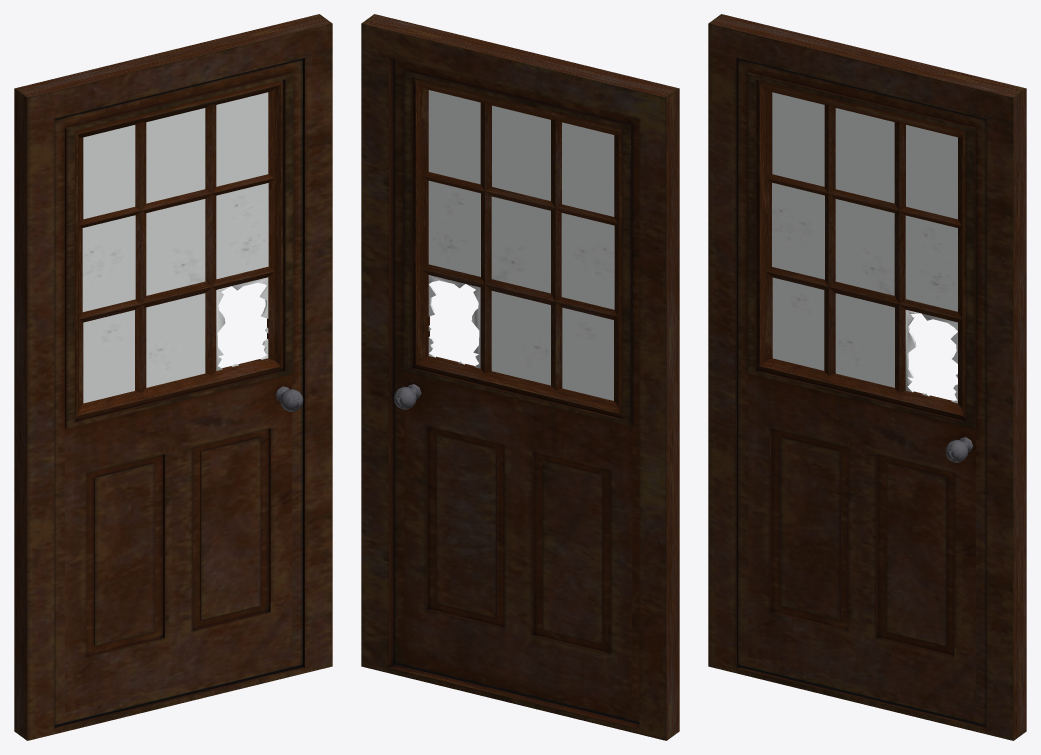
Rendered from door.obj.
3 views of the same model, side by side, from view 1: azimuth 30°, elevation 25°; view 2: azimuth 150°, elevation 25°; view 3: azimuth 330°, elevation 25° (orthographic).
Visible parts, largest first — view 1: door_doors_0, frame_doors_0, door_window_0; view 2: door_doors_0, frame_doors_0, door_window_0; view 3: door_doors_0, frame_doors_0, door_window_0.
Boxes of the visible parts, bbox=[...] form: door_doors_0: bbox=[54, 59, 302, 725]; frame_doors_0: bbox=[14, 14, 332, 740]; door_window_0: bbox=[82, 92, 268, 403]; door_doors_0: bbox=[394, 59, 639, 721]; frame_doors_0: bbox=[361, 14, 679, 740]; door_window_0: bbox=[428, 90, 614, 400]; door_doors_0: bbox=[738, 59, 986, 724]; frame_doors_0: bbox=[708, 14, 1026, 740]; door_window_0: bbox=[772, 92, 957, 403].
Bounding box in the file's own units: 120 × 242 × 25.46.
3 materials, 3 textured.
